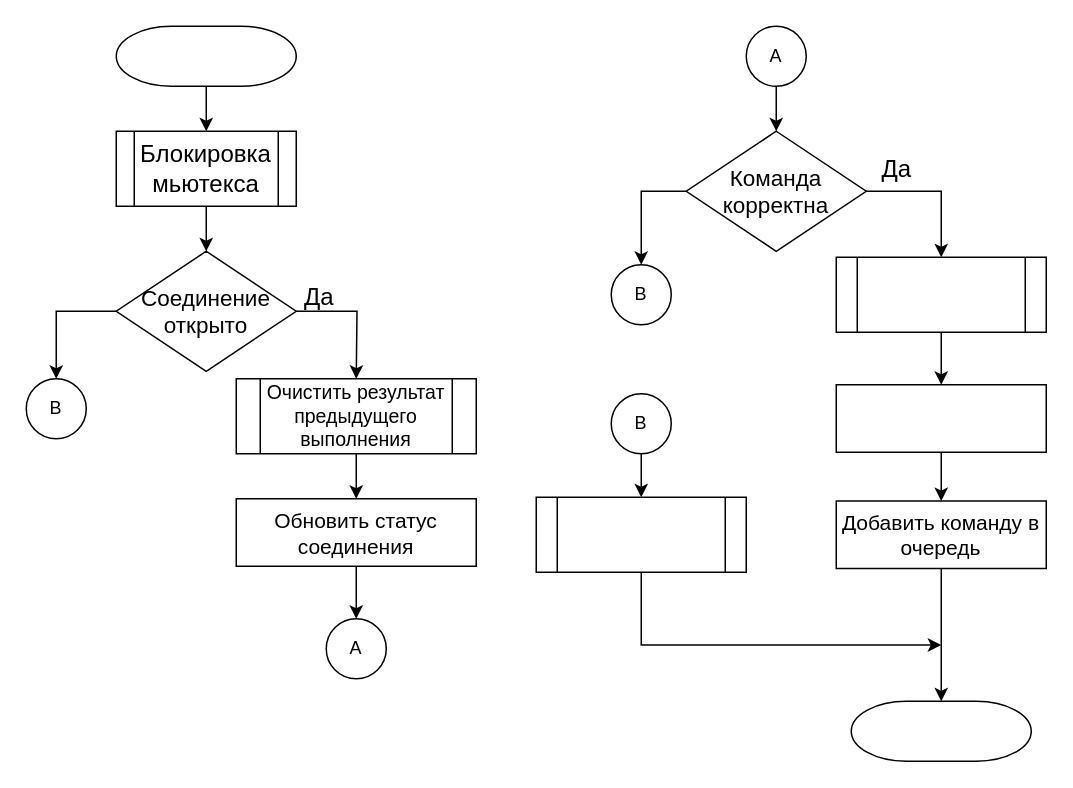
The diagram is 1073 pixels wide and 788 high, and some of its shapes have lost their labels. Each missing label, with the box of its shape:
Записать сообщение в буфер ошибок: (535, 496, 746, 572)
Конец: (850, 700, 1031, 761)
Начало: (115, 25, 296, 86)
Определить точку входа очереди команд: (835, 256, 1046, 332)
Указать протокол запроса: (835, 383, 1046, 452)
